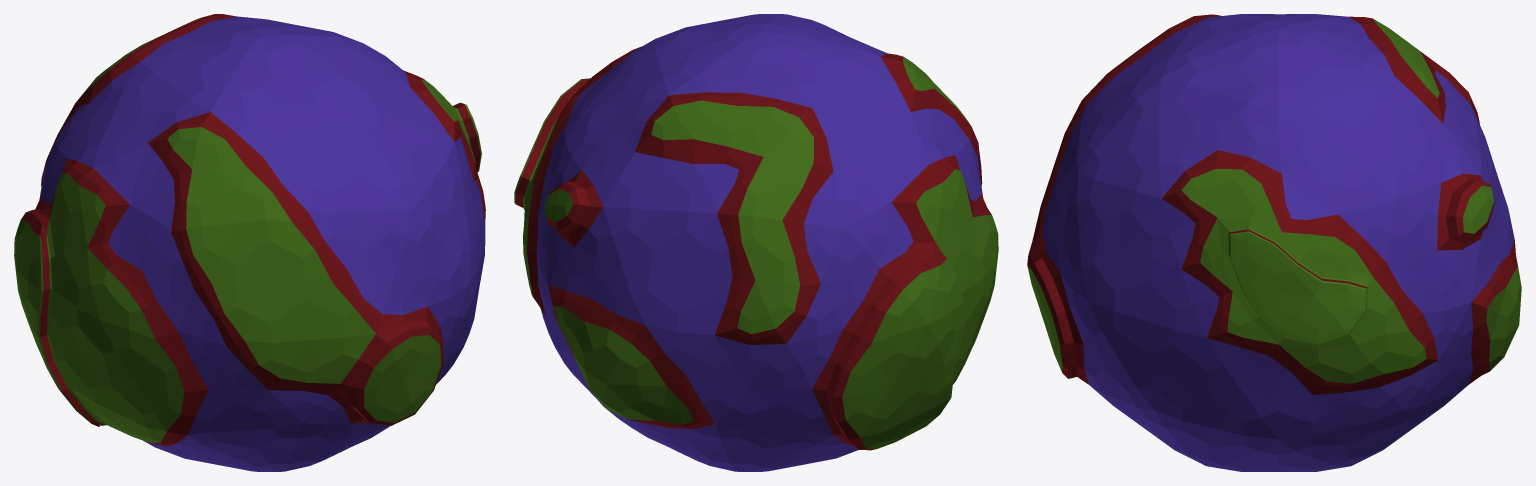
The model's file is Planet8.fbx.
3 renders of one model, left to right at view 1: azimuth 30°, elevation 25°; view 2: azimuth 150°, elevation 25°; view 3: azimuth 270°, elevation 25°, orthographic. The views are drawn at different scales.
Visible parts, largest first — view 1: Surface8; view 2: Surface8; view 3: Surface8.
Boxes of the visible parts, left/top/right/bottom form: Surface8: left=14, top=14, right=485, bottom=471; Surface8: left=514, top=14, right=998, bottom=471; Surface8: left=1027, top=14, right=1521, bottom=471.
Bounding box in the file's own units: 807 × 758 × 796.
